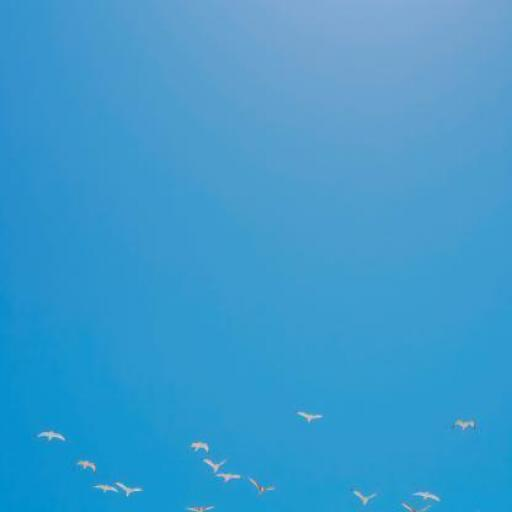bird: (247, 476, 277, 496), (114, 480, 146, 496), (351, 488, 379, 506), (201, 458, 230, 474), (36, 430, 70, 443), (73, 460, 97, 478), (294, 411, 326, 423), (213, 472, 245, 484), (410, 491, 443, 502), (186, 442, 210, 456), (452, 418, 476, 431), (91, 485, 122, 495), (401, 502, 432, 512), (184, 506, 216, 511)
